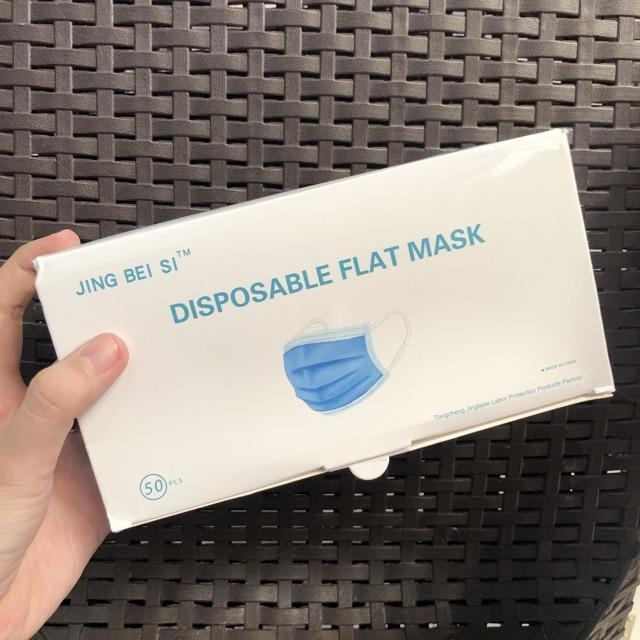face mask: (272, 303, 421, 421)
